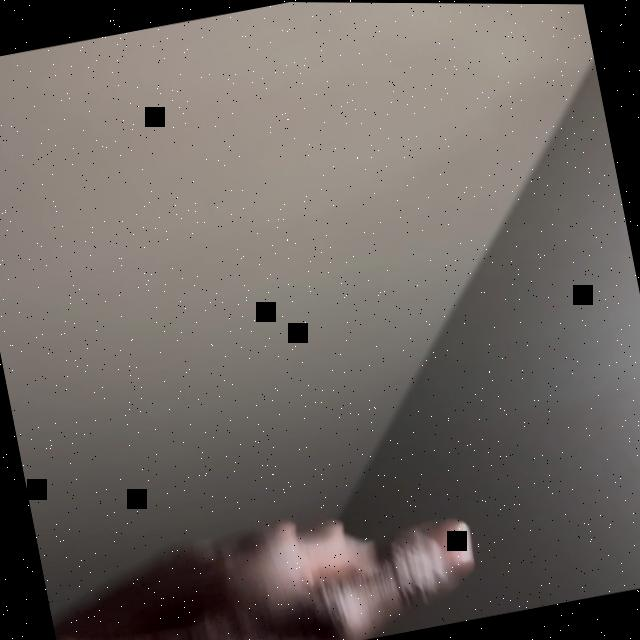Paper: (42, 481, 497, 640)
